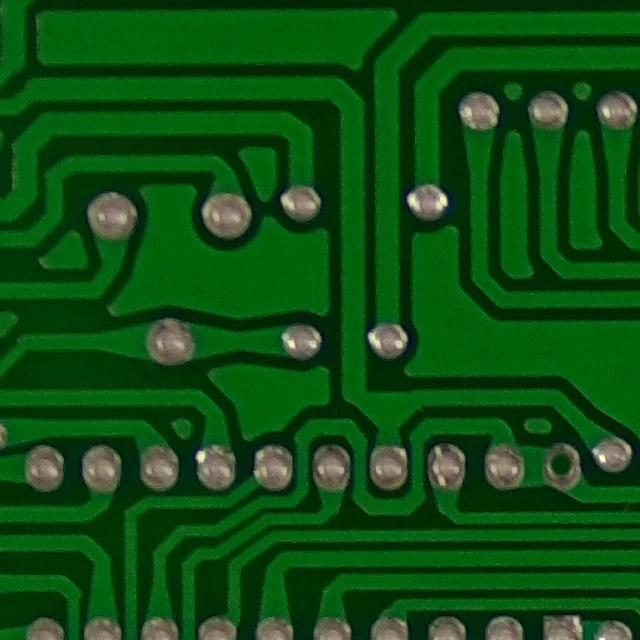missing_hole: (535, 433, 594, 496)
